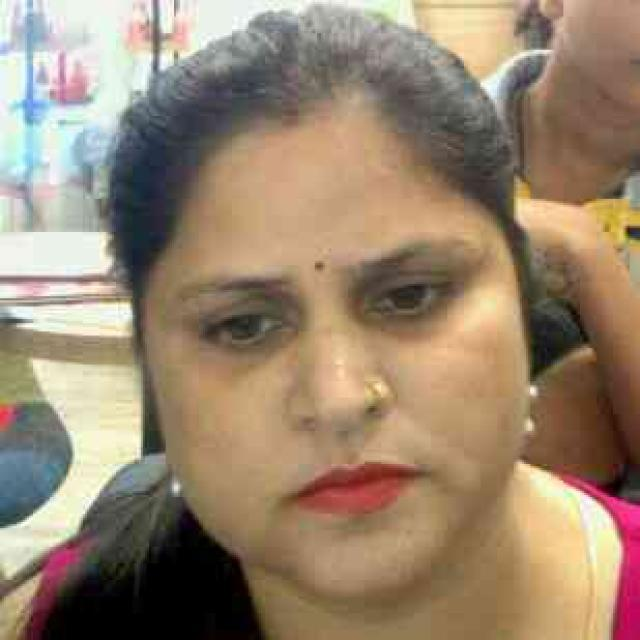Puffy Eyes - v3 Dark Circle: (197, 329, 297, 367), (359, 293, 446, 334)
